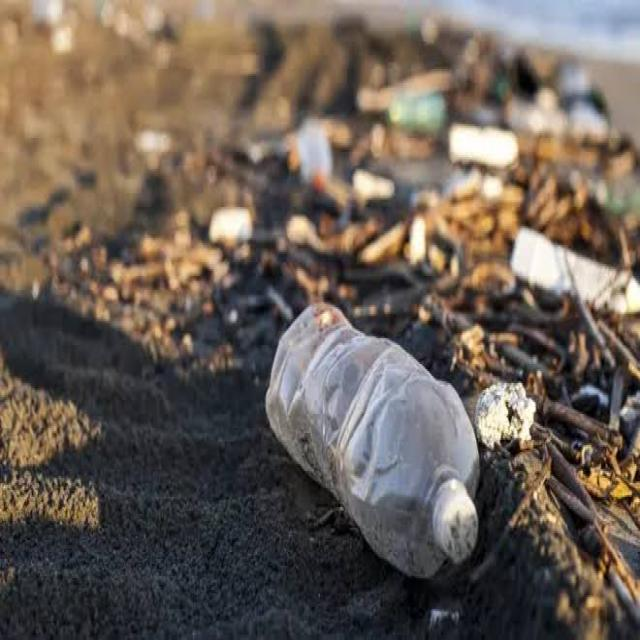plastic: (256, 276, 485, 590)
